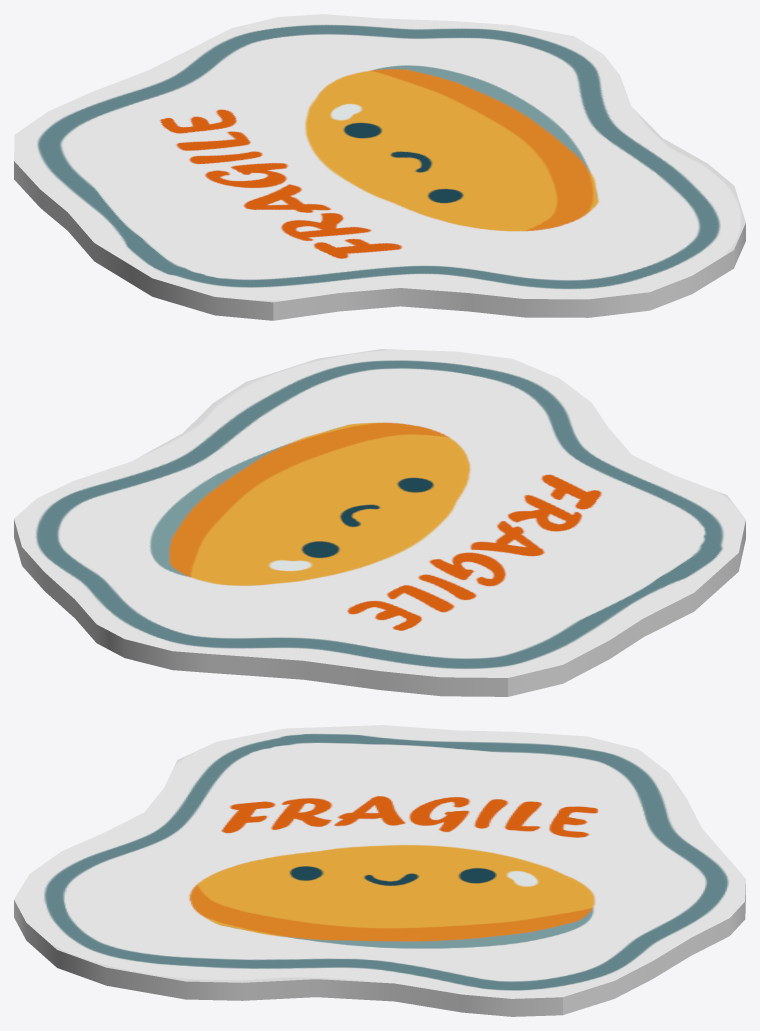
The model's file is Mesh_Sticker_4.fbx.
3 renders of one model, top to bottom at view 1: azimuth 30°, elevation 25°; view 2: azimuth 150°, elevation 25°; view 3: azimuth 270°, elevation 25°, orthographic. The views are drawn at different scales.
Parts seen in each view (by area): view 1: pPlane18; view 2: pPlane18; view 3: pPlane18.
Boxes of the visible parts, x1,y1,x2,y2 form: pPlane18: [14, 14, 745, 320]; pPlane18: [14, 349, 745, 696]; pPlane18: [14, 725, 745, 1016].
Bounding box in the file's own units: 16.3 × 0.5 × 18.41.
